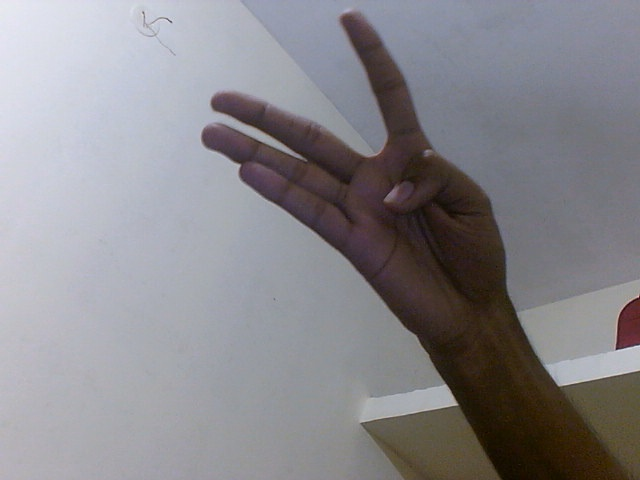hand: (195, 9, 510, 338)
